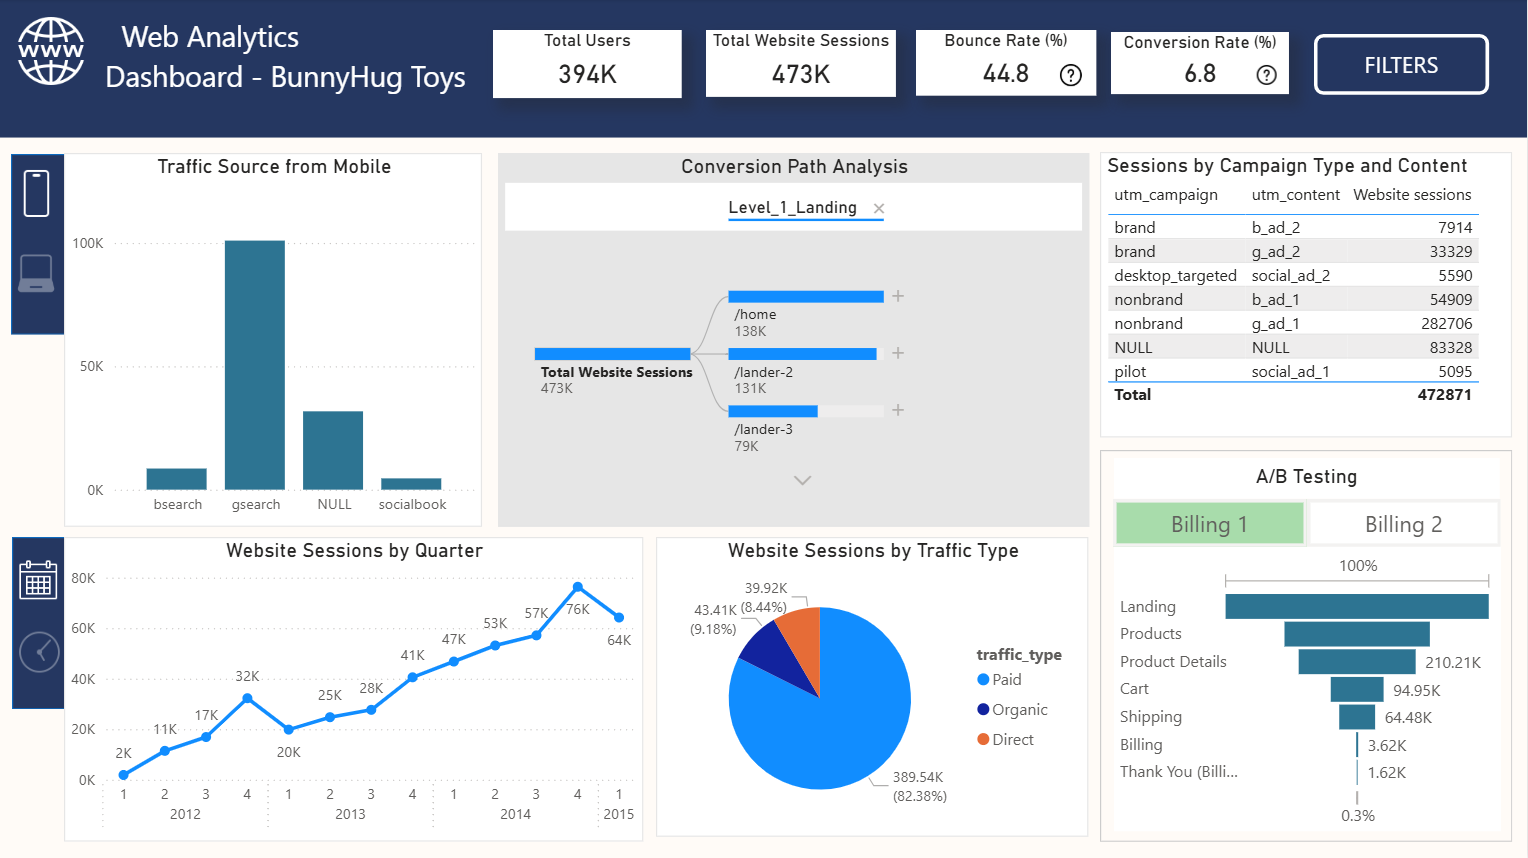

The dashboard page shown, as its layout file describes it:
{"tool":"powerbi","page":{"name":"Website Traffic Dashboard","canvas":[1280,720],"ordinal":0},"visuals":[{"type":"card","title":"Total Website Sessions","fields":{"Values":["CountNonNull(website_sessions.website_session_id)"]},"box":[591.8,26,159.1,56],"z":0,"group":"g2"},{"type":"card","title":"Bounce Rate (%)","fields":{"Values":["calculations.Bounce Rate"]},"box":[767.7,26,150.5,55],"z":0,"group":"g1"},{"type":"card","title":"Conversion Rate (%)","fields":{"Values":["website_sessions.Conversion_Rate"]},"box":[931.7,27.6,148.9,51.8],"z":0,"group":"g3"},{"type":"shape","title":"bar_Shape","box":[9.8,129.8,63.5,151.4],"z":0,"group":"g6"},{"type":"shape","box":[921.6,377.5,345.2,328.1],"z":0,"group":"g5"},{"type":"shape","title":"bar_Shape","box":[10.9,450.2,57.9,144.3],"z":0,"group":"g4"},{"type":"textbox","box":[0,0,1280,115.9],"z":1000},{"type":"group","id":"g1","title":"Bounce rate","box":[767.7,26,151,55],"z":1000,"group":"g2"},{"type":"image","box":[877.8,47.7,40.9,31.7],"z":1000,"group":"g1"},{"type":"image","box":[1038.1,48.6,48.1,30.5],"z":1000,"group":"g3"},{"type":"image","box":[5.7,137.4,51.8,51.4],"z":1000,"group":"g6"},{"type":"lineChart","title":"Website Sessions by Quarter","fields":{"Y":["CountNonNull(website_sessions.website_session_id)"],"Category":["dates.Year","dates.Quarter"]},"box":[54.5,450.2,484.5,255.4],"z":1000,"group":"g4"},{"type":"funnel","title":"Billing 1 Funnel","fields":{"Category":["FunnelSteps.Step"],"Y":["CountNonNull(FunnelSteps.Count)"]},"box":[933.3,458.4,323.7,238.4],"z":1000,"group":"g5"},{"type":"group","id":"g2","title":"Metrics","box":[413.9,26,672.4,57],"z":2000},{"type":"group","id":"g3","title":"Conversion","box":[931.7,27.6,154.6,51.8],"z":2000,"group":"g2"},{"type":"card","title":"transp_Card","fields":{"Values":["calculations.TooltipTrigger"]},"box":[1039.1,48.6,40.3,28.5],"z":2000,"group":"g3"},{"type":"card","fields":{"Values":["calculations.TooltipTrigger"]},"box":[876.6,51.3,42,24.4],"z":2000,"group":"g1"},{"type":"image","box":[10.9,462.7,43.6,48.8],"z":2000,"group":"g4"},{"type":"card","title":"Total Users","fields":{"Values":["Count(website_sessions.user_id)"]},"box":[413.9,26,158.2,57],"z":2500,"group":"g2"},{"type":"lineStackedColumnComboChart","title":"Traffic Source from Mobile","fields":{"Category":["website_sessions.utm_source"],"Y":["CountNonNull(website_sessions.utm_source)"]},"box":[54,129,350.2,312.9],"z":3000,"group":"g6"},{"type":"actionButton","box":[932.1,418.3,162.5,40.1],"z":3000,"group":"g5"},{"type":"group","id":"g4","title":"Website sessions chart","box":[8.1,450.2,531,255.4],"z":3000},{"type":"image","box":[8.1,523.1,50,46.7],"z":3000,"group":"g4"},{"type":"image","box":[10.2,207.4,42.4,43.3],"z":4000,"group":"g6"},{"type":"actionButton","box":[1094.6,418.3,162.5,40.1],"z":4000,"group":"g5"},{"type":"shape","title":"tran_Shape","box":[14.3,202.7,34.1,49.1],"z":5000,"group":"g6"},{"type":"group","id":"g5","title":"Billing Funnel","box":[921.6,377.5,345.2,328.1],"z":5000},{"type":"textbox","box":[933.5,384.5,322.7,33.8],"z":5000,"group":"g5"},{"type":"group","id":"g6","title":"Pagewise revenue/traffic","box":[5.7,128.9,400.4,312.6],"z":6000},{"type":"shape","title":"tran_Shape","box":[15.8,513.6,35.7,64.4],"z":6000,"group":"g4"},{"type":"tableEx","title":"Sessions by Campaign Type and Content","fields":{"Values":["website_sessions.utm_campaign","website_sessions.utm_content","website_sessions.website_session_id"]},"box":[921.6,128.2,345.2,239.2],"z":7000},{"type":"pieChart","title":"Website Sessions by Traffic Type","fields":{"Category":["website_sessions.traffic_type"],"Y":["CountNonNull(website_sessions.website_session_id)"]},"box":[550.2,450.2,362.4,251.4],"z":8000},{"type":"decompositionTreeVisual","title":"Conversion Path Analysis","fields":{"ExplainBy":["Query1.Level_1_Landing","Query1.Level_5_Shipping","Query1.Level_6_Billing","Query1.Level_7_ThankYou","Query1.Level_4_Cart","Query1.Level_3_Details","Query1.Level_2_Products"],"Analyze":["CountNonNull(Query1.website_session_id)"]},"box":[417.5,128.9,495.1,312.6],"z":9000},{"type":"actionButton","title":"Slicer button","box":[1100.6,29.3,146.6,50.9],"z":10000},{"type":"image","box":[8,8,72.4,72.4],"z":12000}]}

Visuals, with their boxes in screenshot pixels (x1, y1, x2, y2), scaled from the page's 1280x720 canvas onto the 1528x858 screenshot:
"Total Website Sessions" card: detection(706, 31, 896, 98)
"Bounce Rate (%)" card: detection(916, 31, 1096, 97)
"Conversion Rate (%)" card: detection(1112, 33, 1290, 95)
"bar_Shape" shape: detection(12, 155, 88, 335)
shape: detection(1100, 450, 1512, 841)
"bar_Shape" shape: detection(13, 536, 82, 708)
textbox: detection(0, 0, 1527, 138)
"Bounce rate" group: detection(916, 31, 1097, 97)
image: detection(1048, 57, 1097, 95)
image: detection(1239, 58, 1297, 94)
image: detection(7, 164, 69, 225)
"Website Sessions by Quarter" lineChart: detection(65, 536, 643, 841)
"Billing 1 Funnel" funnel: detection(1114, 546, 1501, 830)
"Metrics" group: detection(494, 31, 1297, 99)
"Conversion" group: detection(1112, 33, 1297, 95)
"transp_Card" card: detection(1240, 58, 1289, 92)
card - calculations.TooltipTrigger: detection(1046, 61, 1097, 90)
image: detection(13, 551, 65, 610)
"Total Users" card: detection(494, 31, 683, 99)
"Traffic Source from Mobile" lineStackedColumnComboChart: detection(64, 154, 483, 527)
actionButton: detection(1113, 498, 1307, 546)
"Website sessions chart" group: detection(10, 536, 644, 841)
image: detection(10, 623, 69, 679)
image: detection(12, 247, 63, 299)
actionButton: detection(1307, 498, 1501, 546)
"tran_Shape" shape: detection(17, 242, 58, 300)
"Billing Funnel" group: detection(1100, 450, 1512, 841)
textbox: detection(1114, 458, 1500, 498)
"Pagewise revenue/traffic" group: detection(7, 154, 485, 526)
"tran_Shape" shape: detection(19, 612, 61, 689)
"Sessions by Campaign Type and Content" tableEx: detection(1100, 153, 1512, 438)
"Website Sessions by Traffic Type" pieChart: detection(657, 536, 1089, 836)
"Conversion Path Analysis" decompositionTreeVisual: detection(498, 154, 1089, 526)
"Slicer button" actionButton: detection(1314, 35, 1489, 96)
image: detection(10, 10, 96, 96)
